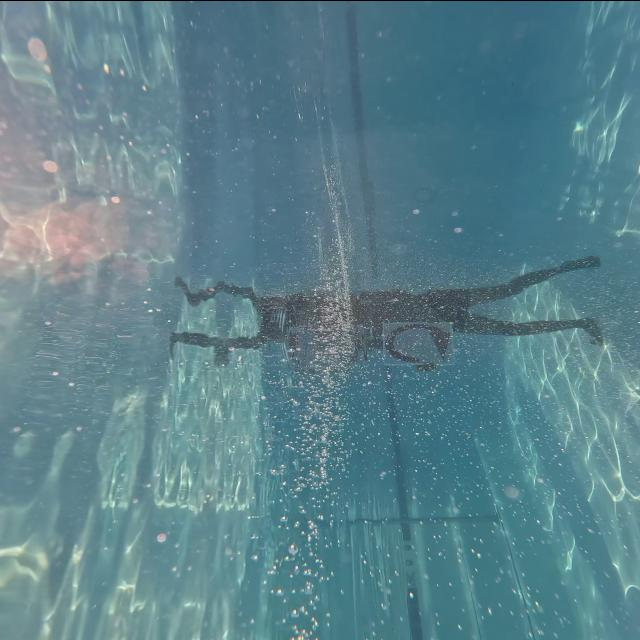red_side: (384, 315, 460, 377)
